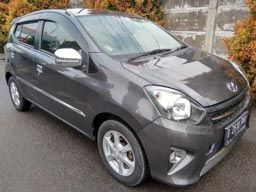plat: (226, 113, 247, 140)
